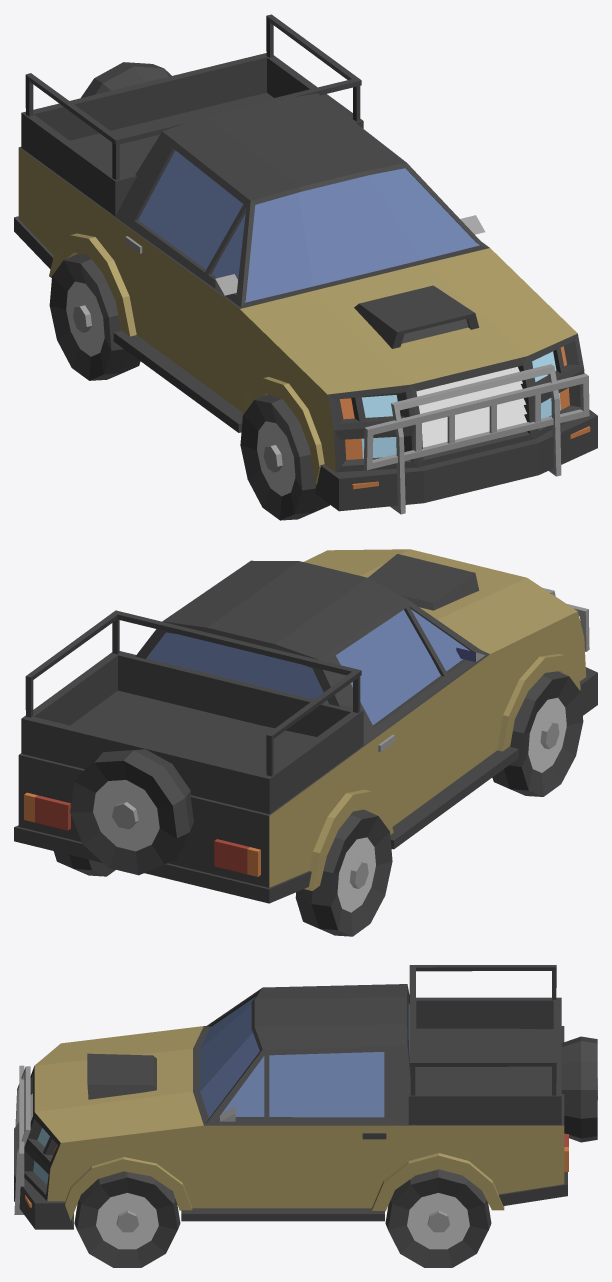
File: transport_jeep_005.glb
The picture shows the model from 3 angles, top to bottom: view 1: azimuth 30°, elevation 25°; view 2: azimuth 150°, elevation 25°; view 3: azimuth 270°, elevation 25°; orthographic projection. The views are drawn at different scales.
Parts seen in each view (by area): view 1: transport_jeep_005; view 2: transport_jeep_005; view 3: transport_jeep_005.
Part boxes in pixels (x1,y1,x2,y2): transport_jeep_005: (14,14,597,520); transport_jeep_005: (14,549,597,936); transport_jeep_005: (14,965,597,1267).
Bounding box in the file's own units: 1.76 × 1.48 × 3.87.
Materials: 1 (1 with a texture image).
